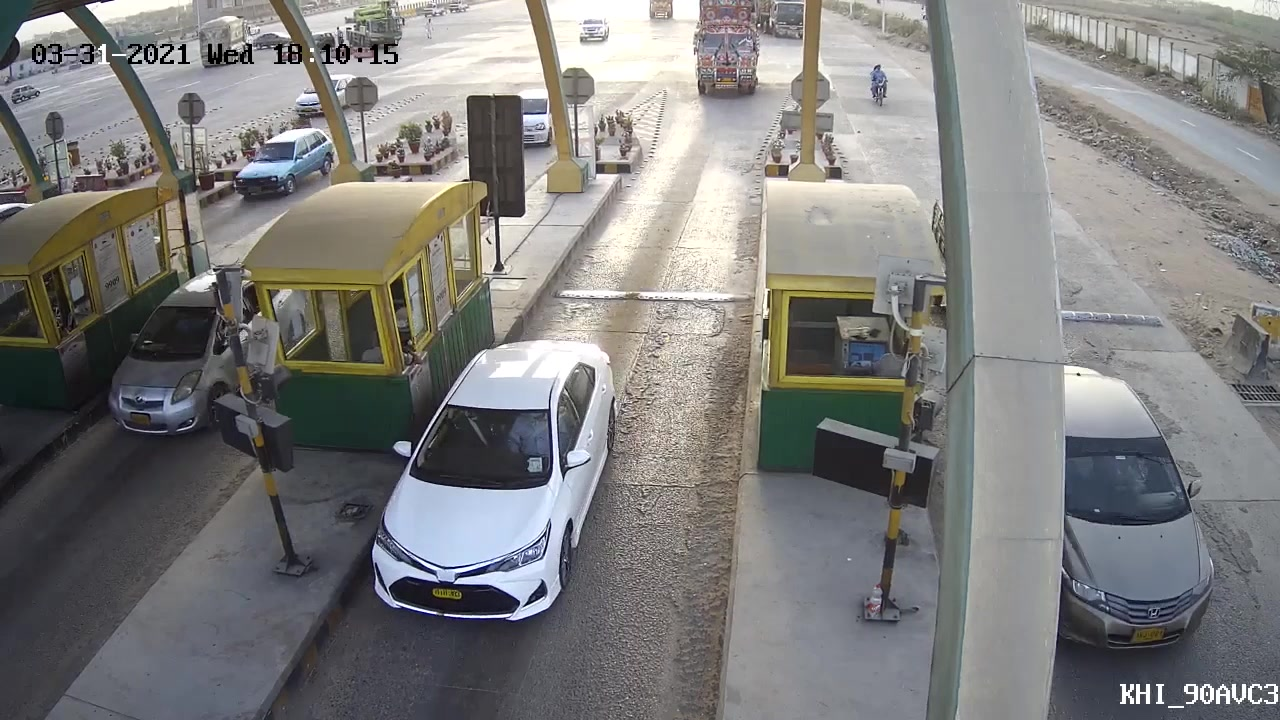F1: (368, 334, 627, 633)
